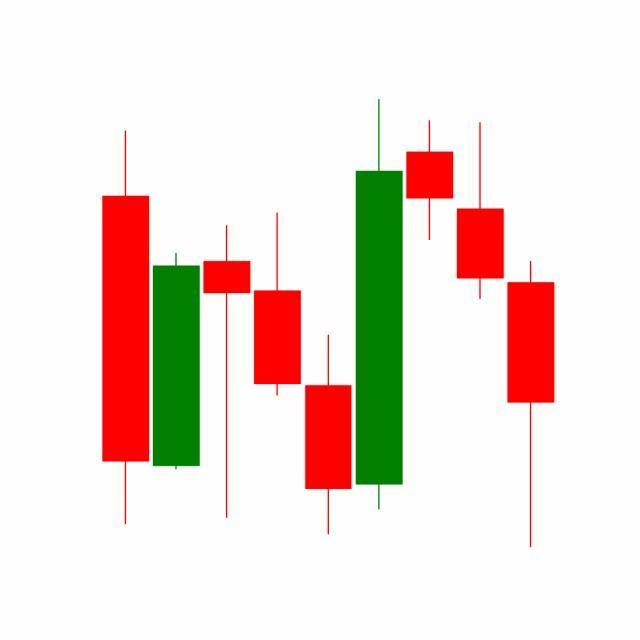Hikkake Pattern: (252, 99, 506, 540)
